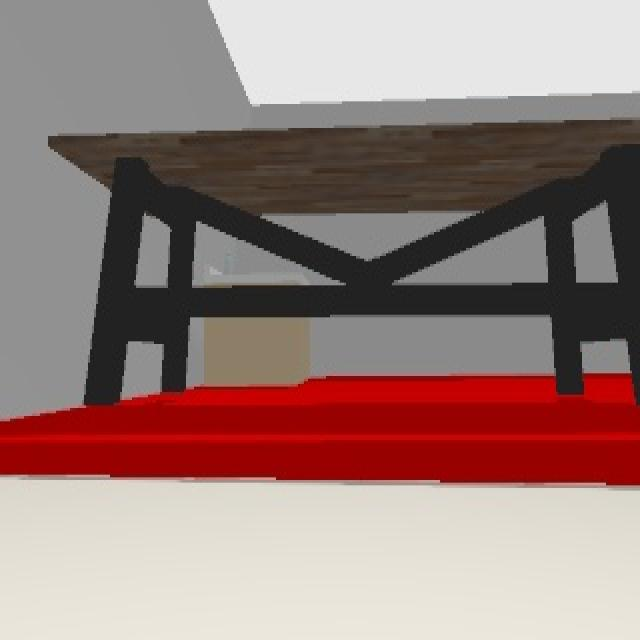dining: (49, 129, 640, 413)
